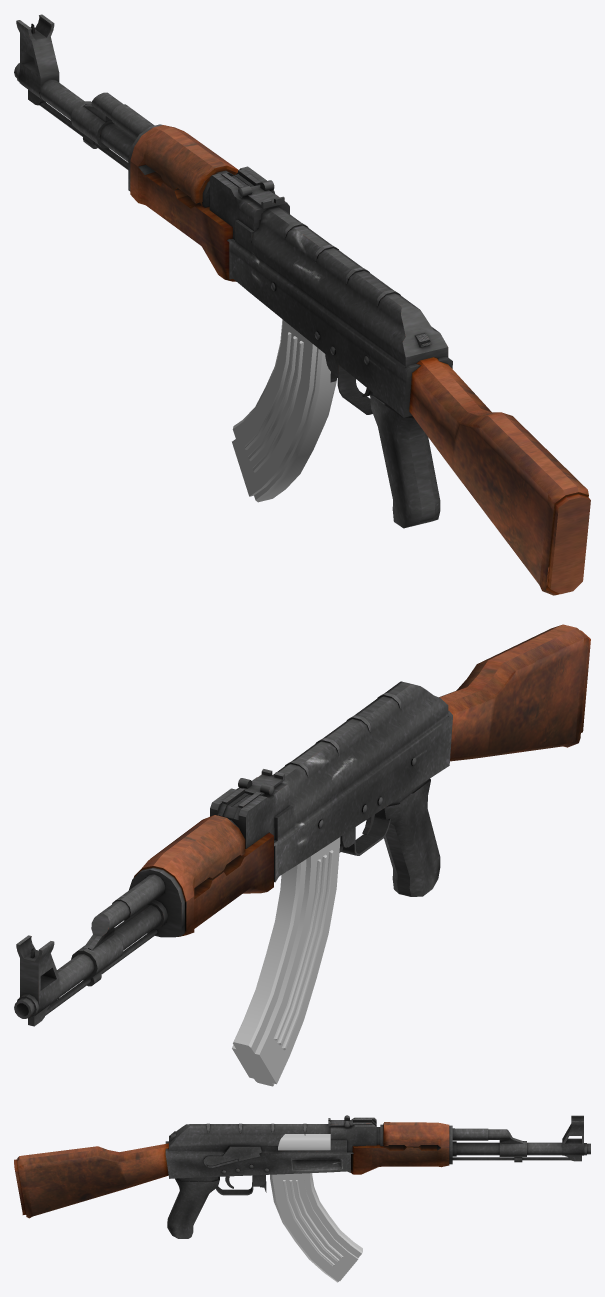
3 views of the same model, one above another, from view 1: azimuth 30°, elevation 25°; view 2: azimuth 150°, elevation 25°; view 3: azimuth 270°, elevation 25° (orthographic). The views are drawn at different scales.
Visible parts, largest first — view 1: Ak47Body; view 2: Ak47Body; view 3: Ak47Body.
Part boxes in pixels (box(x1,y1,x2,y2)): Ak47Body: box(14, 14, 590, 595); Ak47Body: box(14, 624, 590, 1086); Ak47Body: box(14, 1115, 590, 1282).
Bounding box in the file's own units: 0.0208 × 0.1098 × 0.3544.
